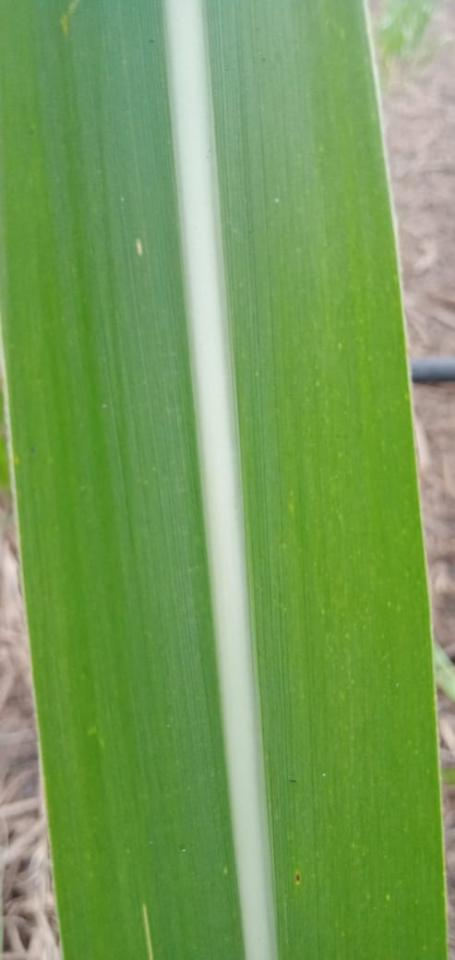Healthy: (1, 0, 449, 959)
